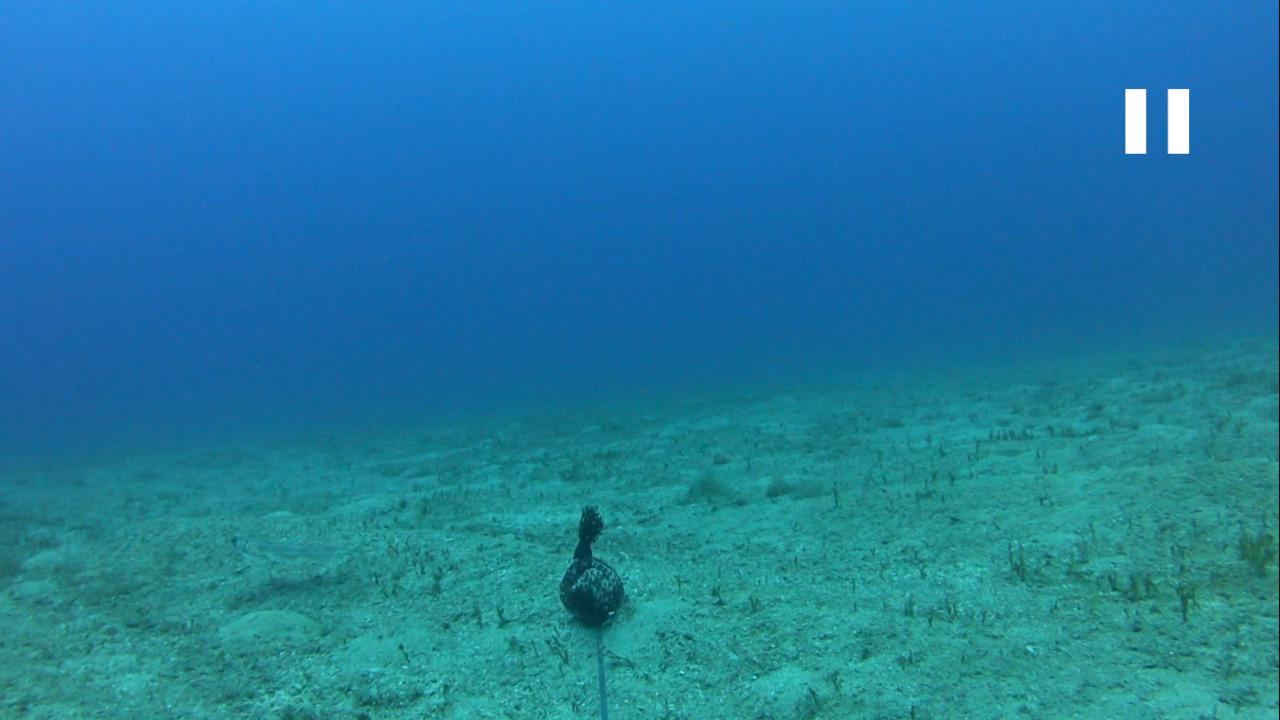dactylopterus: (214, 517, 384, 590)
